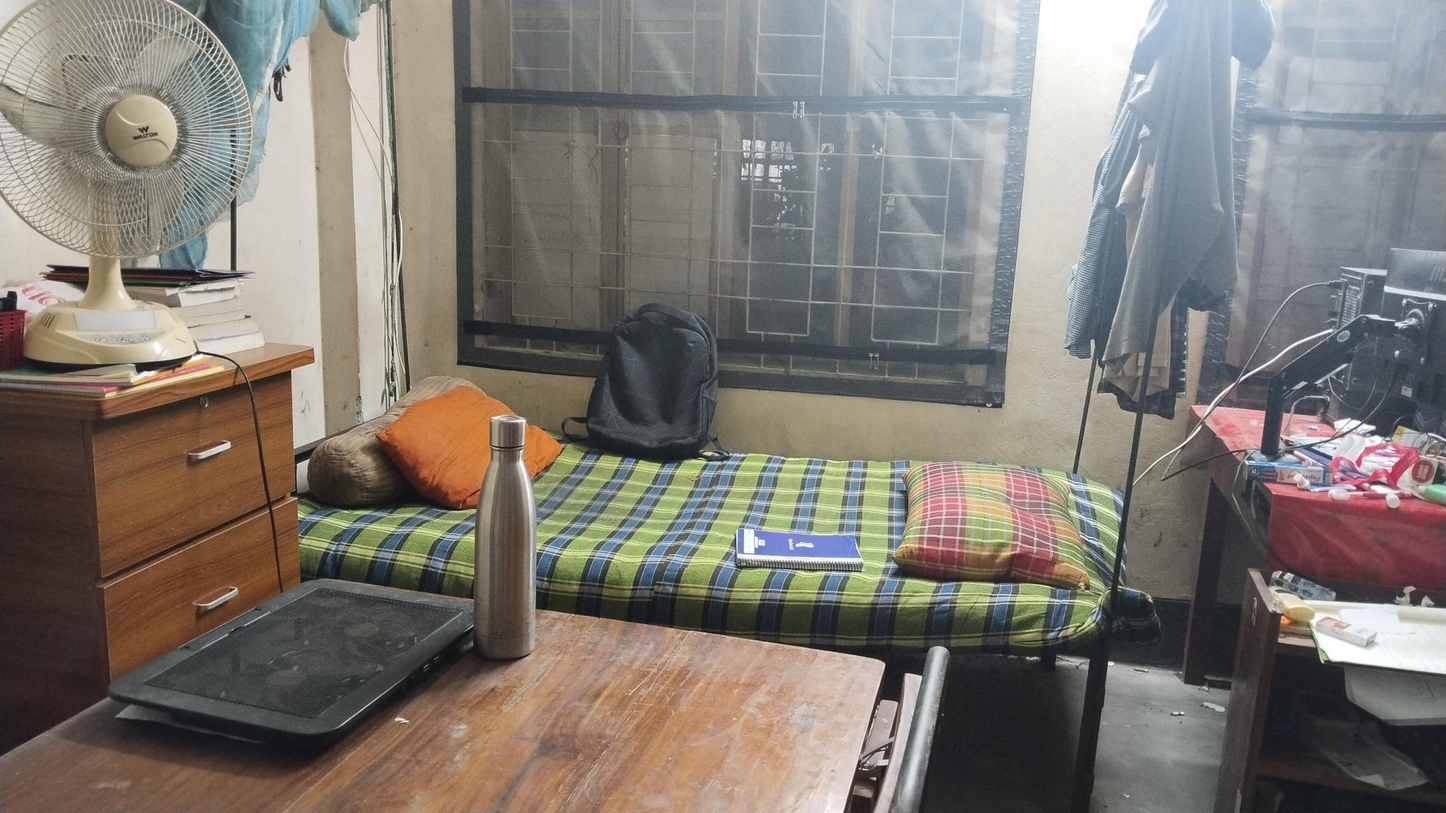Bag: (602, 302, 719, 452)
Bottle: (480, 410, 536, 655)
Fan: (0, 0, 252, 366)
Notebook: (734, 524, 866, 572)
Pillow: (901, 463, 1090, 588), (374, 385, 565, 507)
